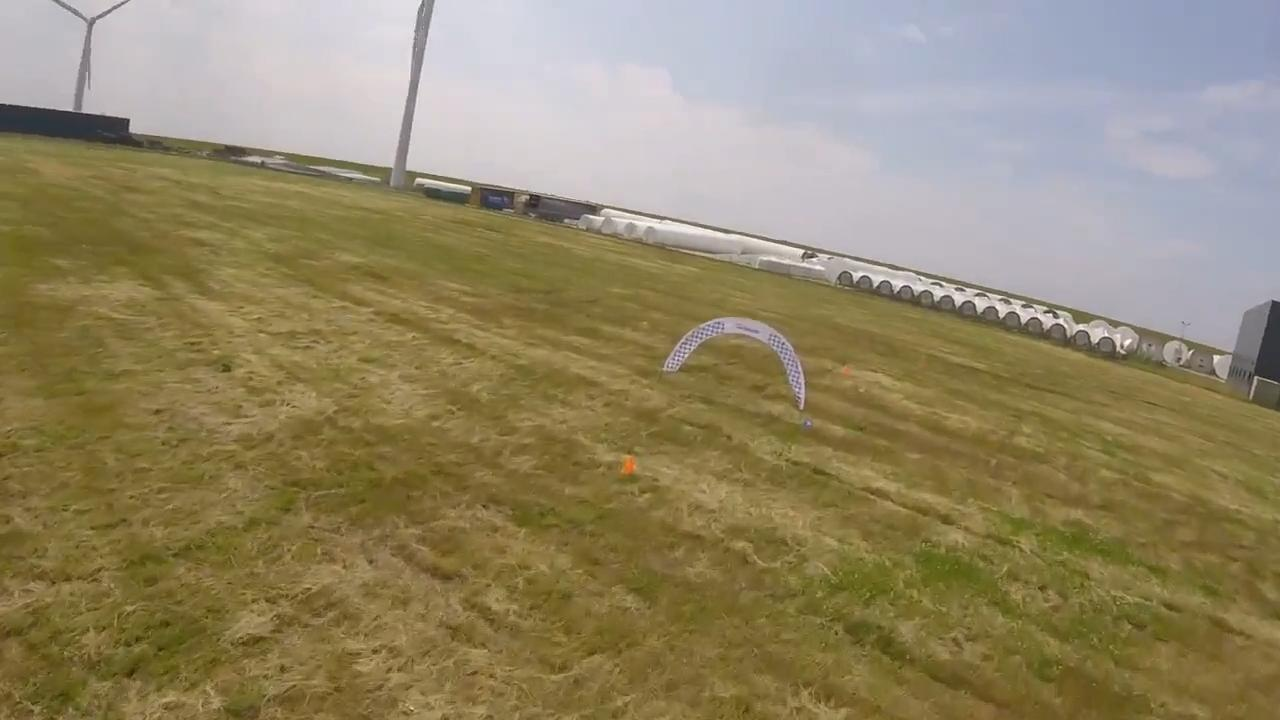gate: (660, 316, 809, 415)
